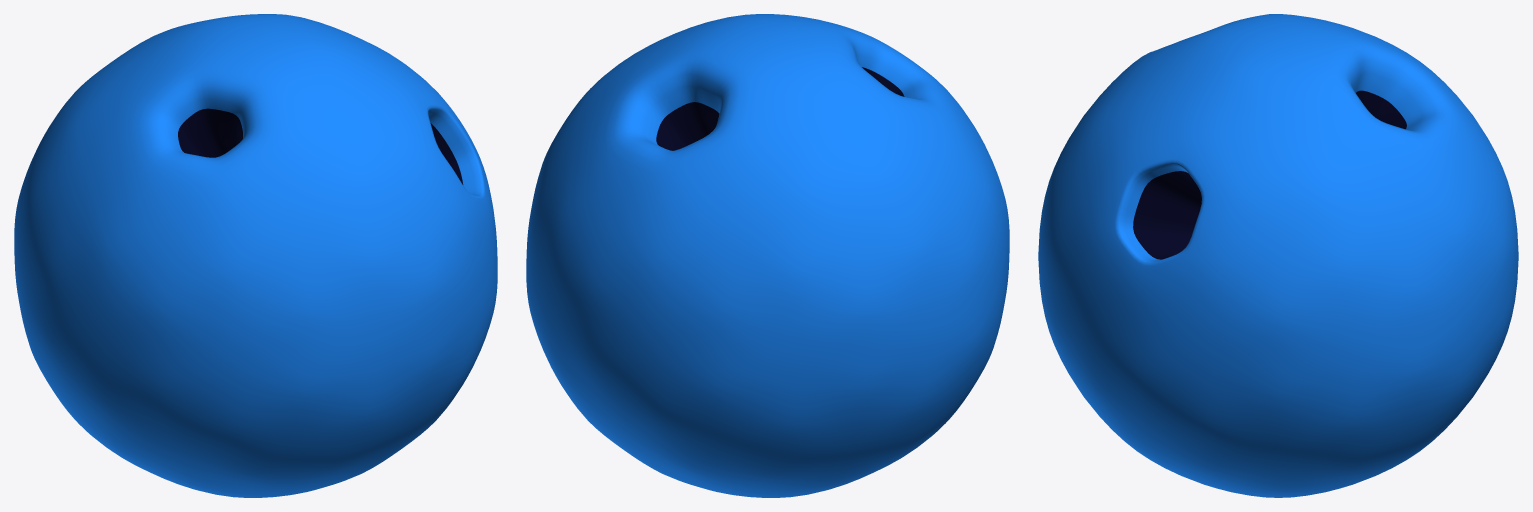
Rendered from bowlingBall.fbx.
3 views of the same model, side by side, from view 1: azimuth 30°, elevation 25°; view 2: azimuth 150°, elevation 25°; view 3: azimuth 270°, elevation 25° (orthographic).
Parts seen in each view (by area): view 1: Icosphere; view 2: Icosphere; view 3: Icosphere.
Part boxes in pixels (box(x1,y1,x2,y2)): Icosphere: box(14, 14, 497, 497); Icosphere: box(526, 14, 1009, 497); Icosphere: box(1038, 14, 1518, 497).
Bounding box in the file's own units: 182 × 183 × 181.
